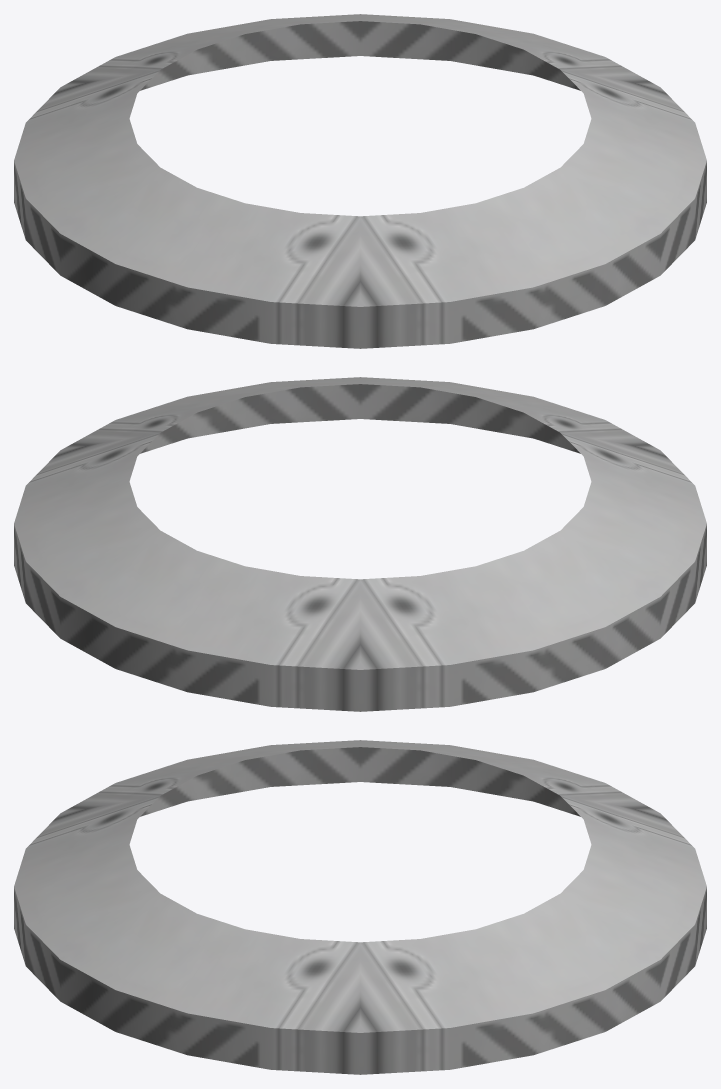
File: vega_adapter_s1p5_s1_1.obj
3 views of the same model, one above another, from view 1: azimuth 30°, elevation 25°; view 2: azimuth 150°, elevation 25°; view 3: azimuth 270°, elevation 25° (orthographic).
Visible parts, largest first — view 1: vega_adapter_s1p5_s1_1; view 2: vega_adapter_s1p5_s1_1; view 3: vega_adapter_s1p5_s1_1.
Boxes of the visible parts, x1,y1,x2,y2 form: vega_adapter_s1p5_s1_1: (14, 14, 706, 348); vega_adapter_s1p5_s1_1: (14, 377, 706, 711); vega_adapter_s1p5_s1_1: (14, 740, 706, 1074).
Size of the model in its own units: 1.88 by 0.25 by 1.88.
